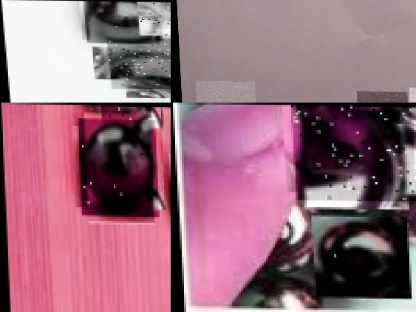ironball: (288, 104, 413, 201), (307, 215, 406, 297), (76, 118, 156, 216), (104, 37, 170, 89), (82, 0, 157, 43), (99, 104, 151, 158), (192, 79, 254, 102), (135, 1, 170, 35), (353, 89, 407, 102), (167, 152, 170, 238)
